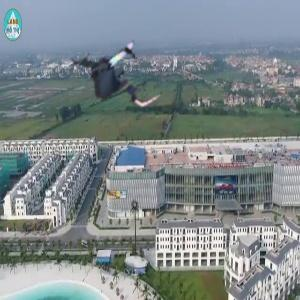drone: (70, 28, 167, 125)
